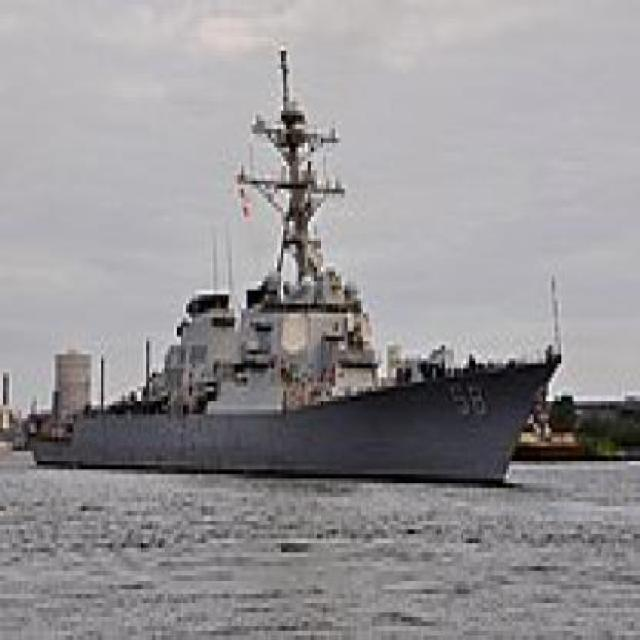warship2: (25, 24, 580, 526)
